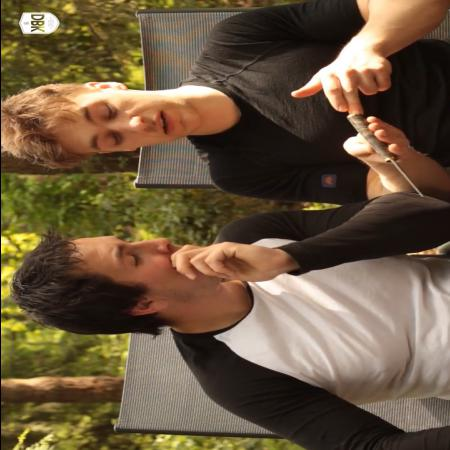long weapon: (335, 111, 430, 202)
